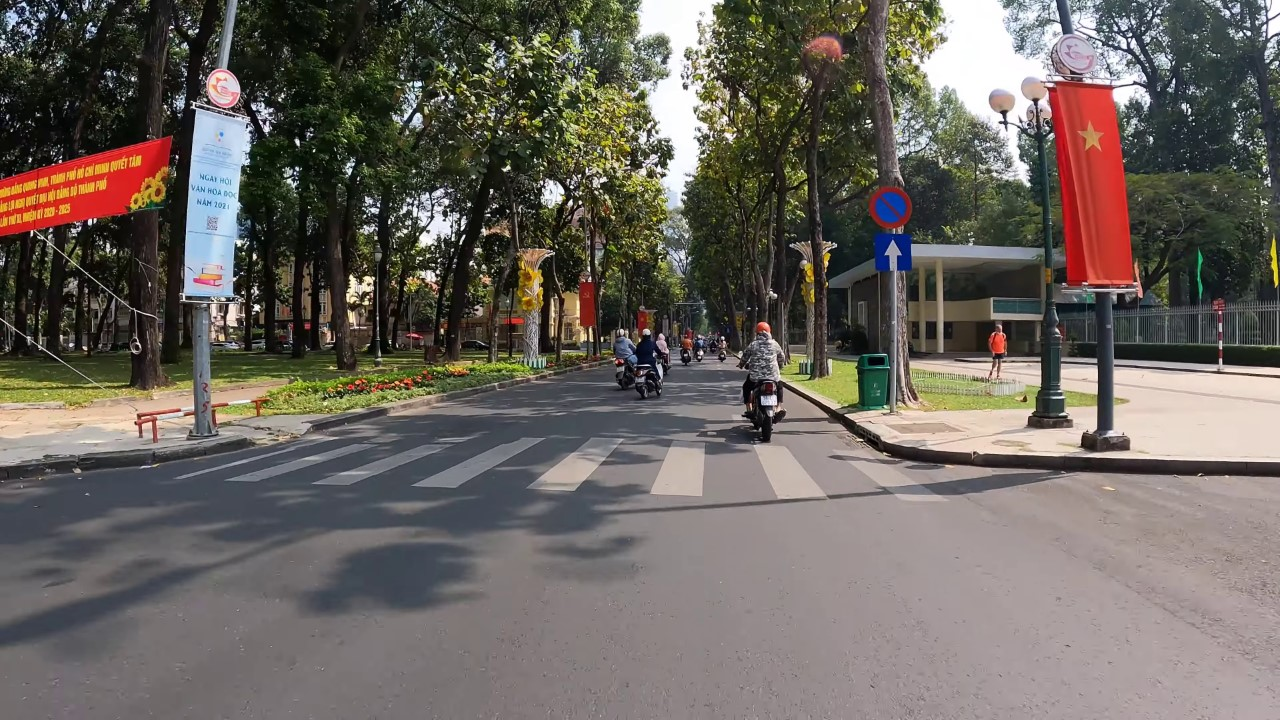cam_do_xe: (865, 183, 915, 232)
